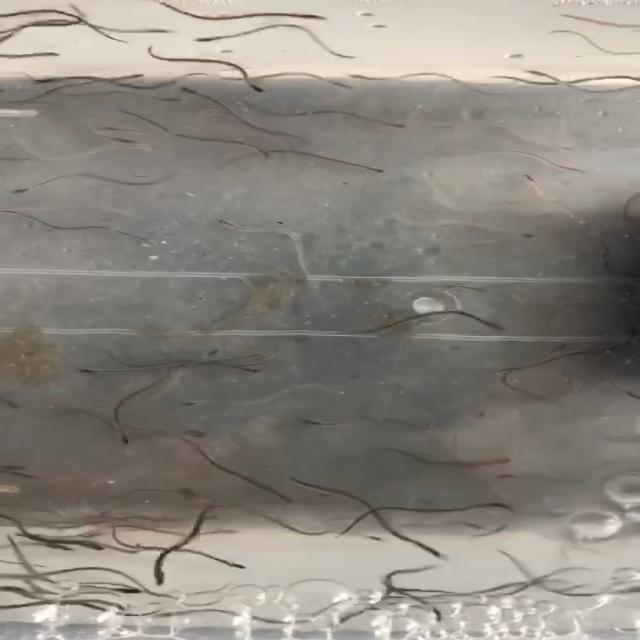active_glass_eel: (100, 135, 168, 162), (187, 26, 246, 50), (197, 209, 240, 238), (29, 170, 73, 198), (461, 316, 514, 339), (81, 120, 144, 139), (275, 7, 334, 24), (37, 540, 86, 560), (0, 585, 51, 604), (350, 157, 392, 180), (96, 68, 151, 84), (82, 540, 148, 553), (340, 534, 390, 551), (395, 64, 435, 85), (459, 409, 495, 432), (568, 162, 619, 178), (26, 68, 60, 92), (304, 418, 352, 434), (413, 541, 456, 558), (201, 558, 257, 571), (172, 76, 210, 95), (366, 116, 406, 134), (498, 230, 546, 245), (490, 443, 520, 467), (188, 344, 220, 366), (78, 414, 124, 429), (69, 364, 121, 377), (511, 172, 550, 189), (144, 605, 183, 622), (128, 491, 167, 508), (142, 570, 178, 588), (234, 81, 272, 98), (546, 335, 580, 354), (230, 361, 270, 377), (15, 47, 66, 59), (112, 581, 147, 598), (456, 517, 493, 533), (136, 26, 181, 39), (325, 613, 357, 631), (468, 501, 516, 513), (526, 63, 558, 79), (251, 144, 278, 162), (178, 398, 206, 415), (108, 436, 144, 449), (210, 497, 239, 512), (263, 492, 294, 506), (492, 470, 520, 485), (220, 528, 244, 542)
